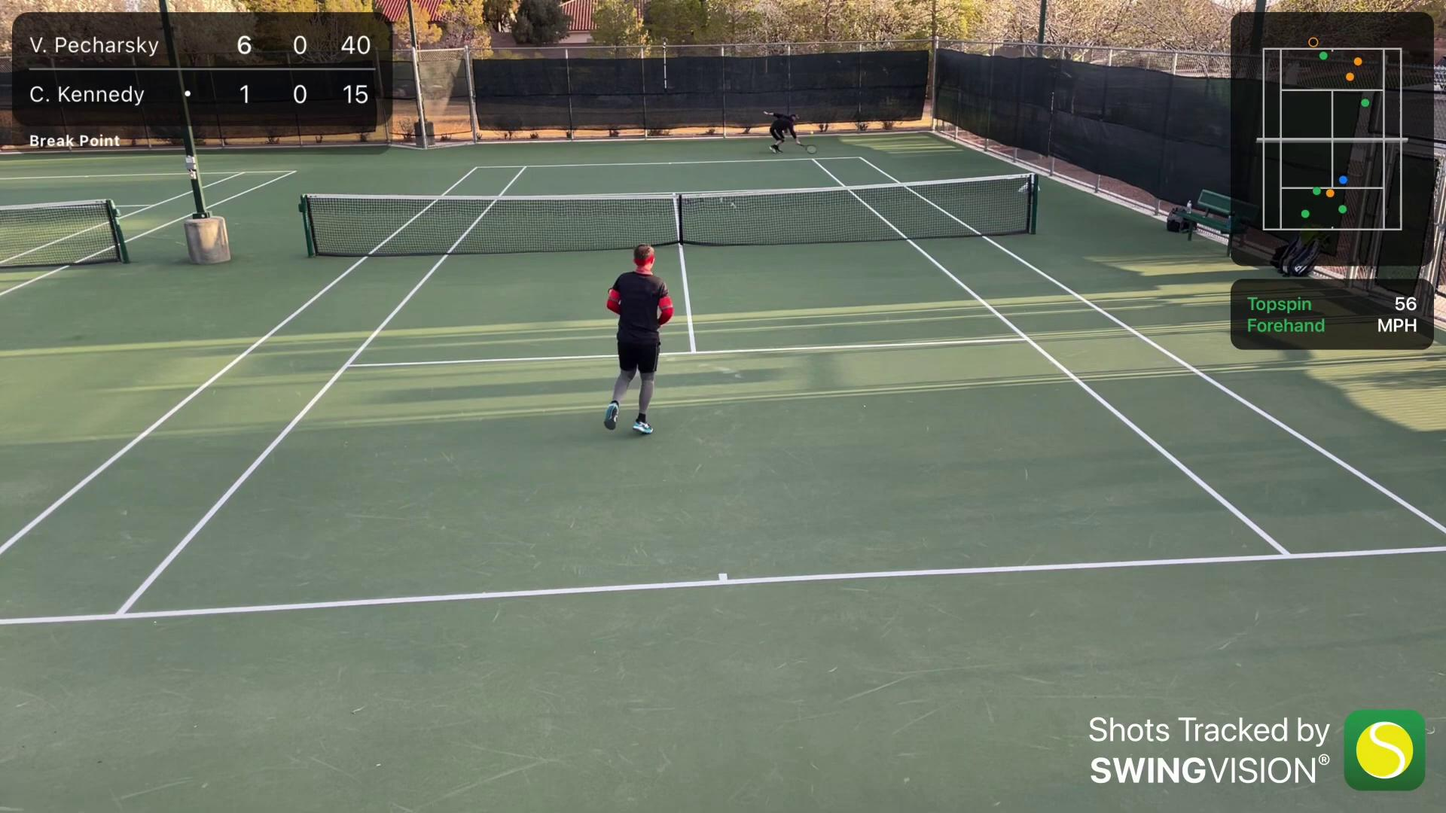ball: (810, 129, 814, 136)
